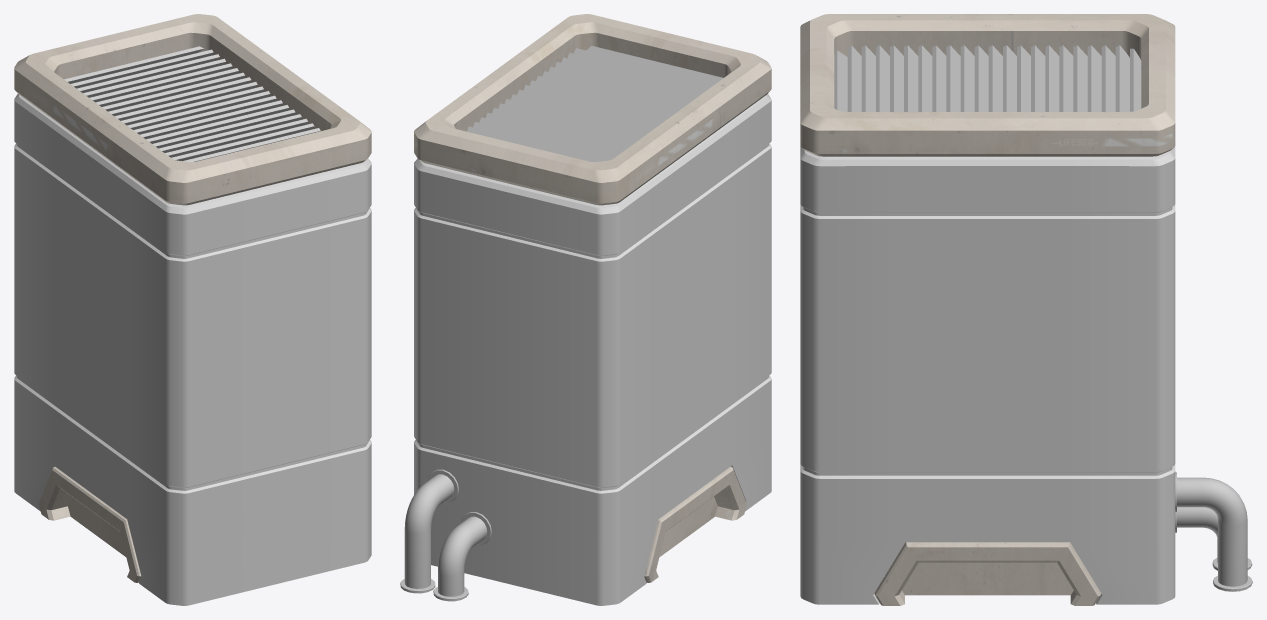
The model's file is KB3D_CBP_ACunit_B.fbx.
3 views of the same model, side by side, from view 1: azimuth 30°, elevation 25°; view 2: azimuth 150°, elevation 25°; view 3: azimuth 270°, elevation 25° (orthographic). The views are drawn at different scales.
Visible parts, largest first — view 1: KB3D_CBP_ACunit_B_Main; view 2: KB3D_CBP_ACunit_B_Main; view 3: KB3D_CBP_ACunit_B_Main.
Boxes of the visible parts, x1,y1,x2,y2 form: KB3D_CBP_ACunit_B_Main: (14,14,371,605); KB3D_CBP_ACunit_B_Main: (400,14,771,605); KB3D_CBP_ACunit_B_Main: (800,14,1252,605).
Size of the model in its own units: 93.89 by 184 by 156.
